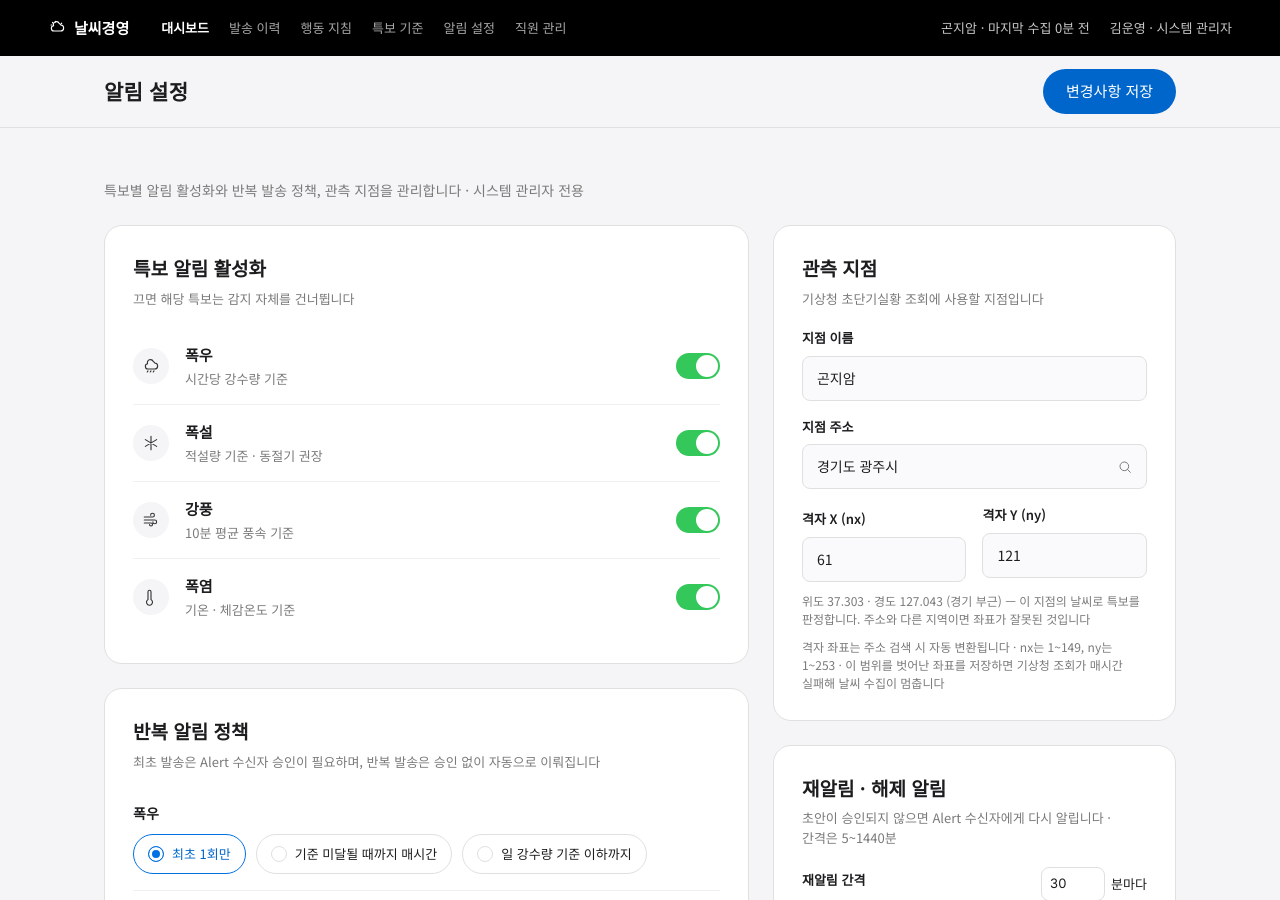
Settings 진행 중 특보가 있는 종류 끄기 (W-03) › 진행 중인 특보가 있는 종류를 끄면 함께 해제된다고 알려 준다
The width and height of the screenshot is (1280, 900).
Click the switch named "폭염 알림 활성화": (698, 597) 676,584 -> 720,610
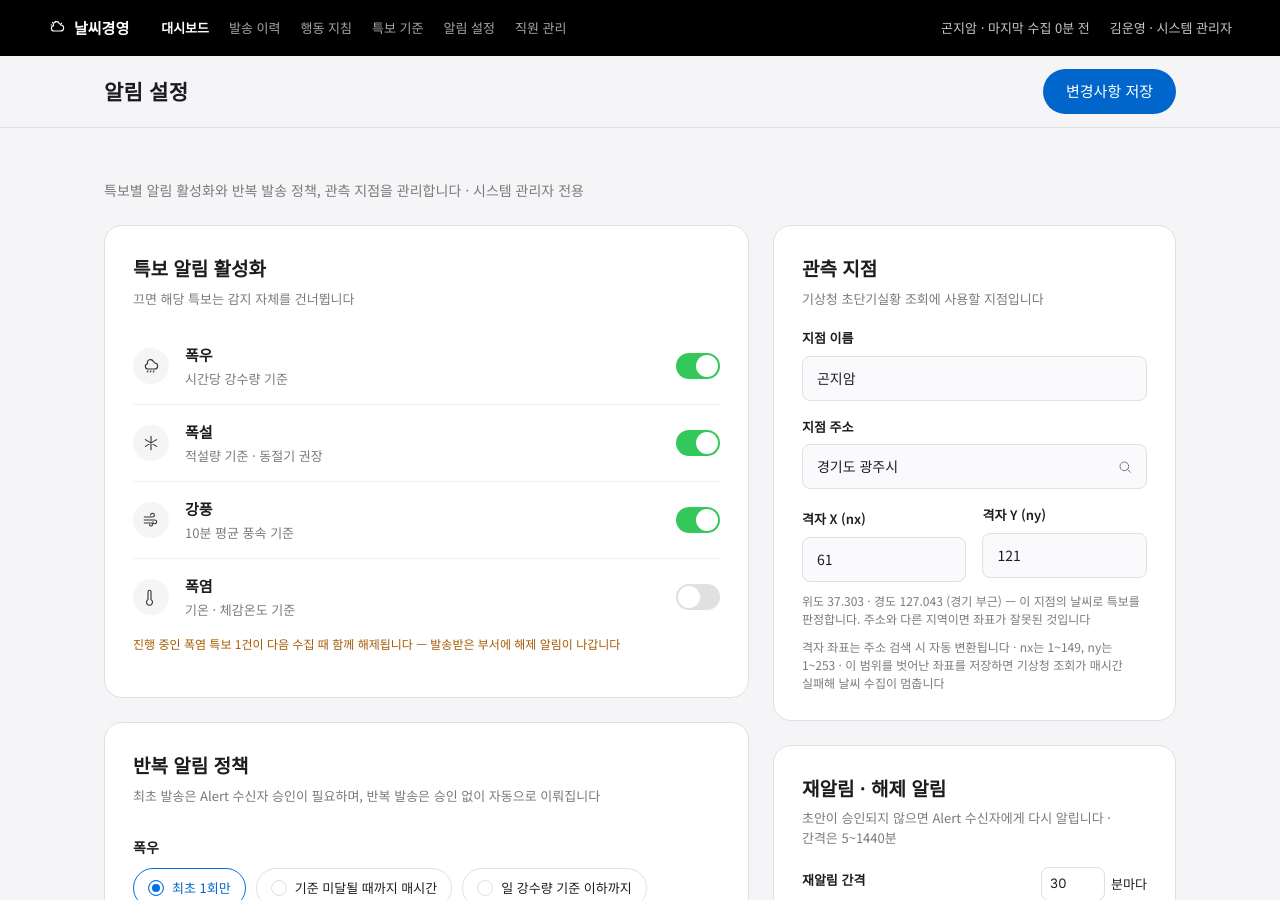
Result: the text with test id "open-warning-heat" shows "진행 중인 폭염 특보 1건이 다음 수집 때 함께 해제됩니다" at 133,635 -> 620,652
